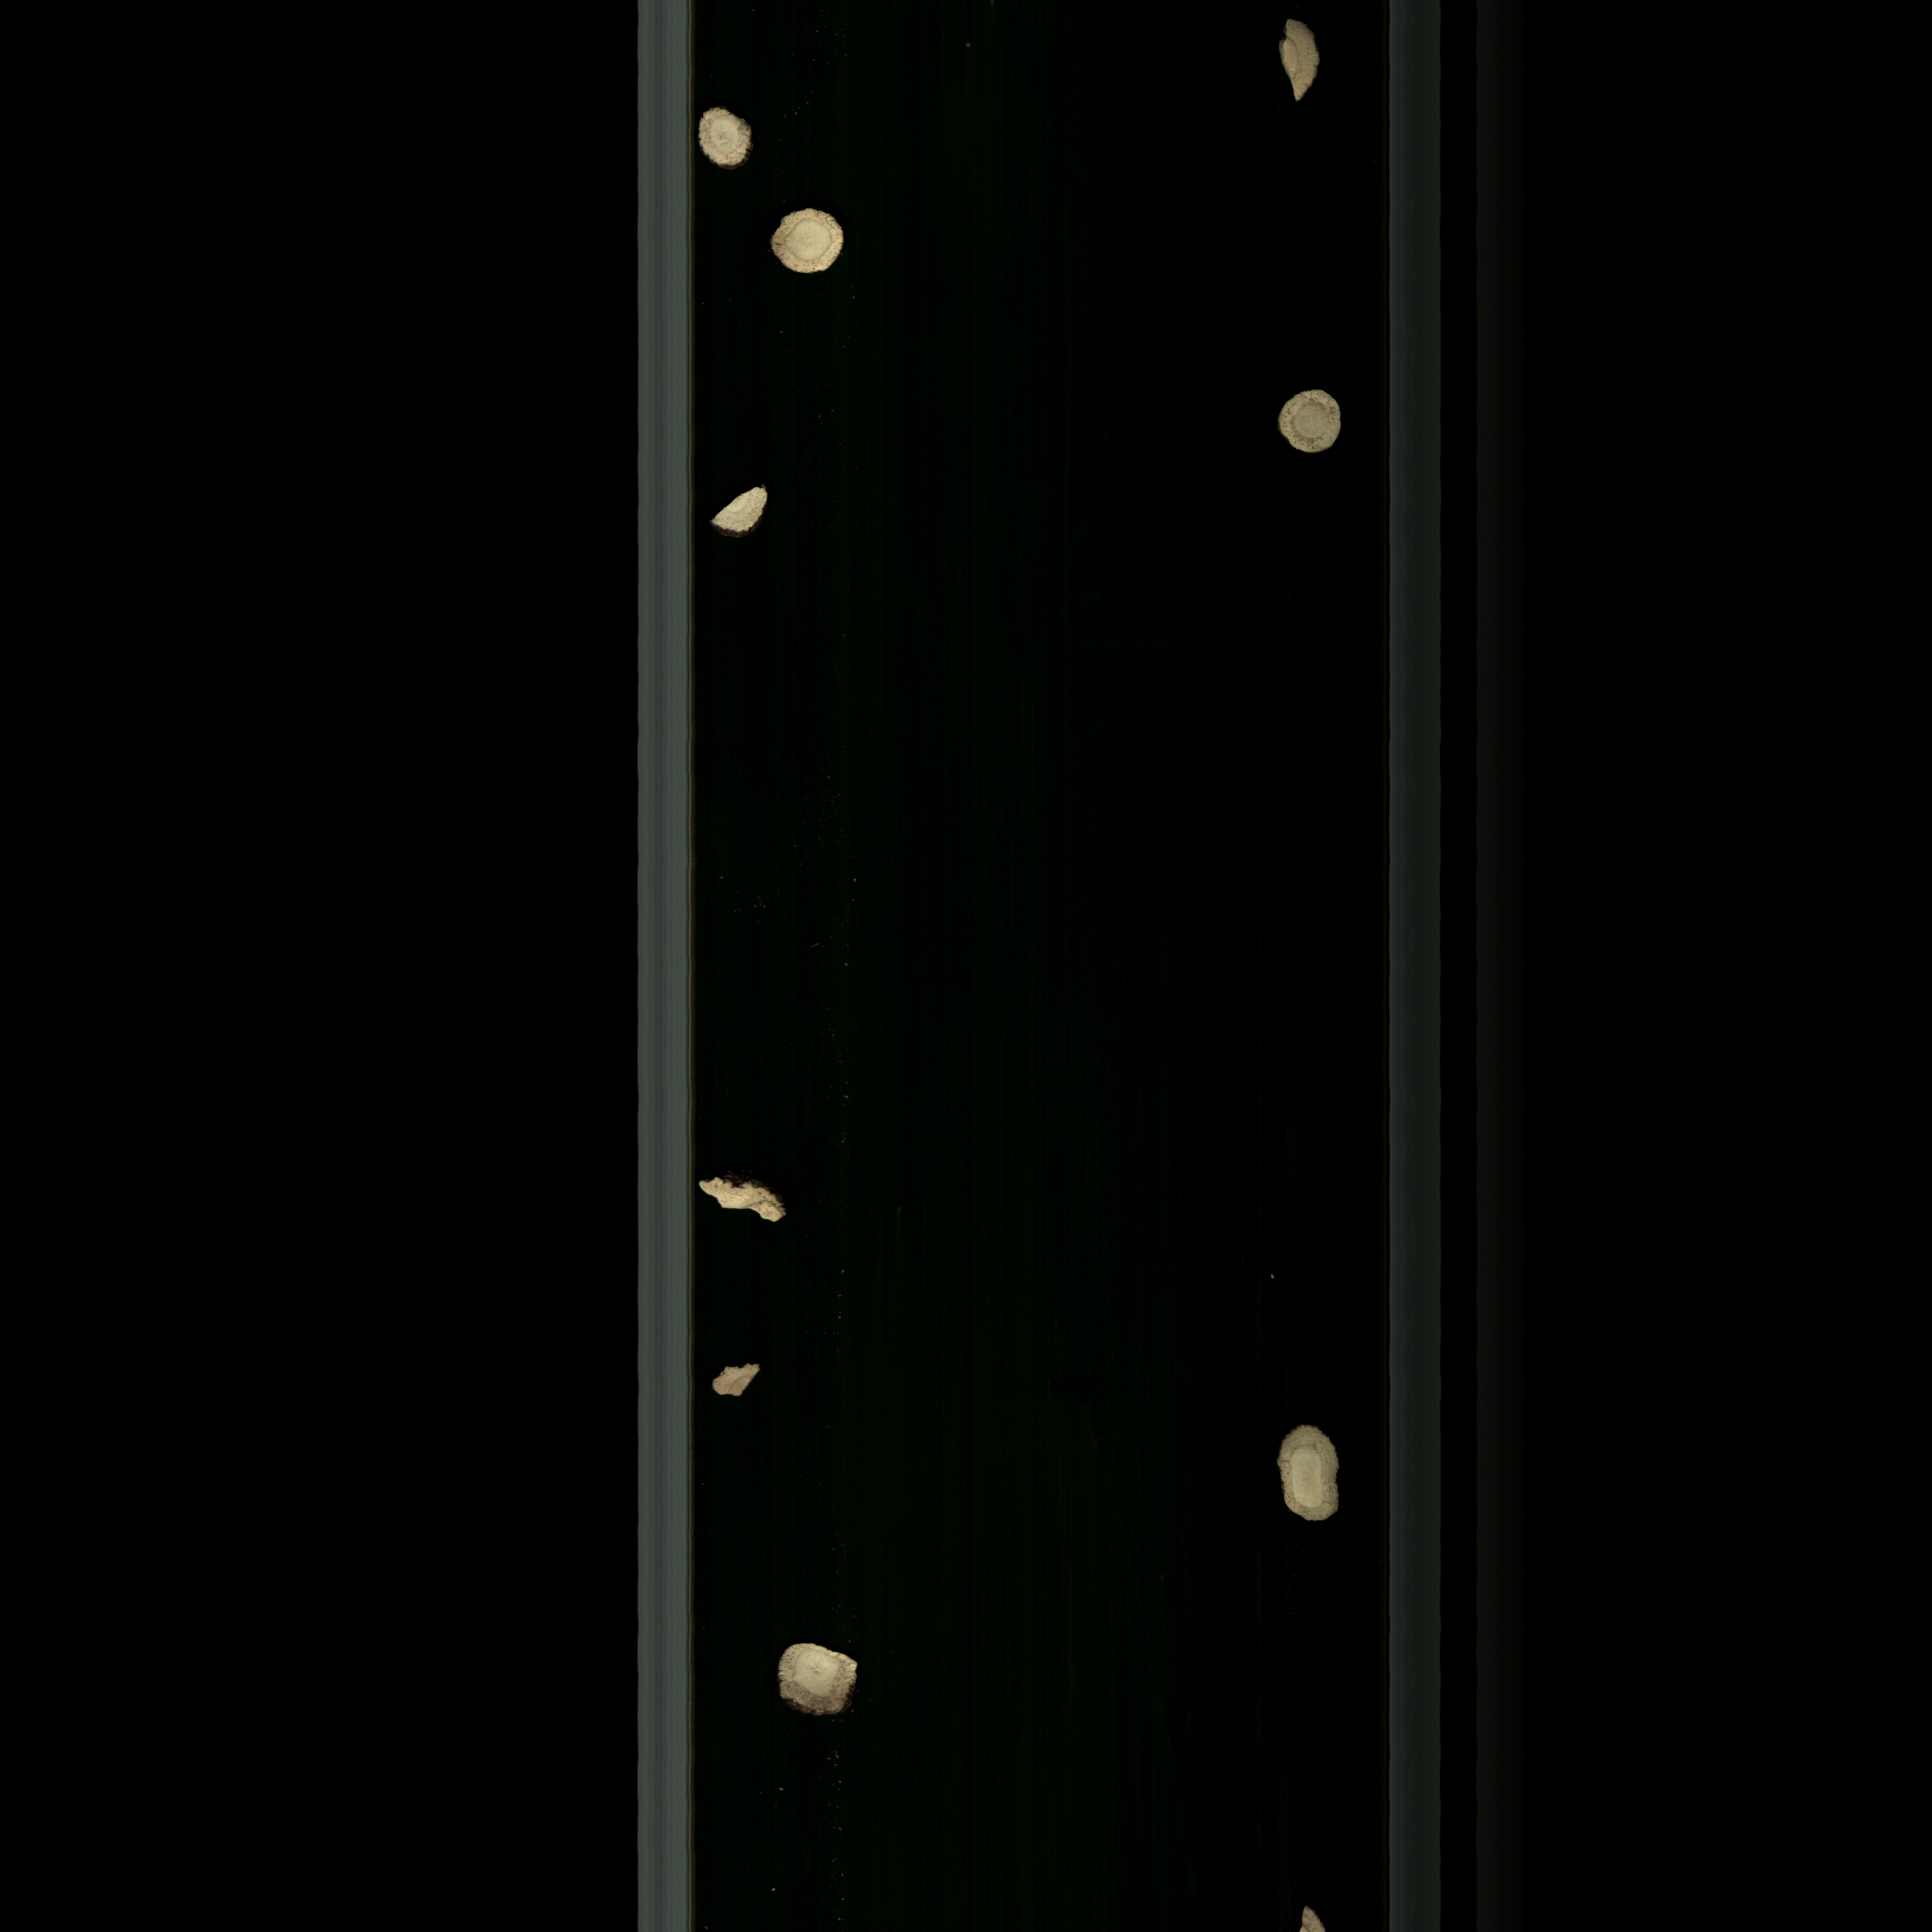debris: (1274, 12, 1329, 110)
distortion: (1265, 1422, 1368, 1545), (695, 1166, 793, 1240)
dreg: (709, 478, 777, 541), (711, 1359, 770, 1403)
moldy: (763, 1633, 878, 1729), (1267, 382, 1359, 465)
